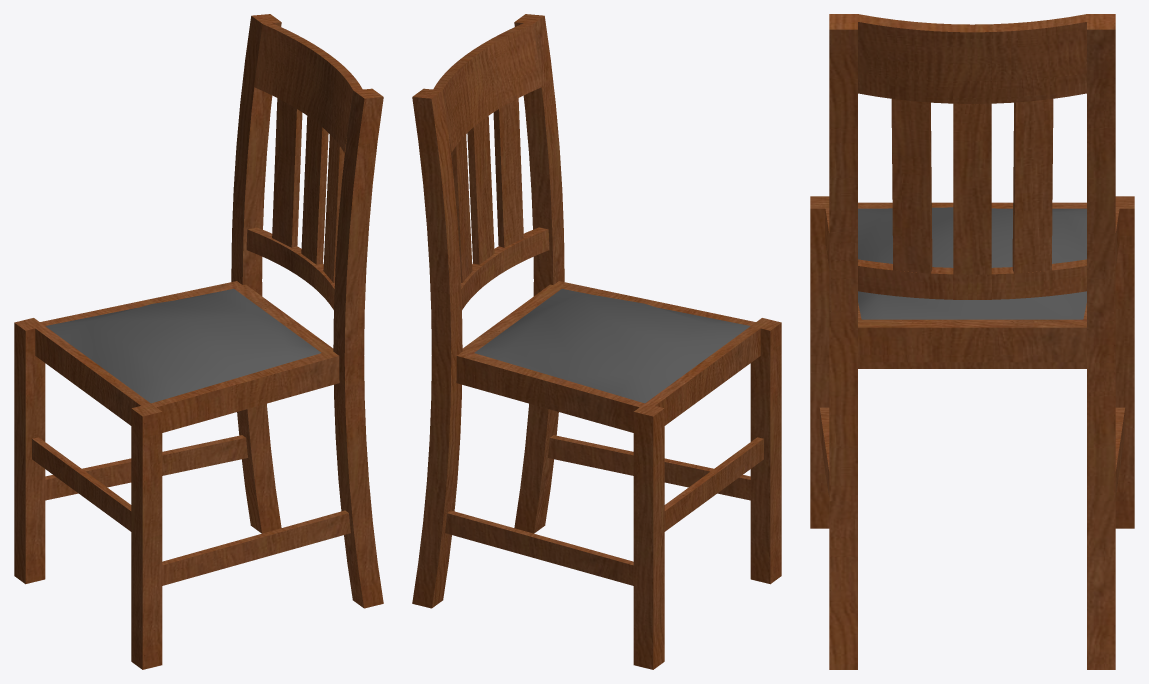
The model's file is Stoel.dae.
The picture shows the model from 3 angles, left to right: view 1: azimuth 30°, elevation 25°; view 2: azimuth 150°, elevation 25°; view 3: azimuth 270°, elevation 25°; orthographic projection. The views are drawn at different scales.
Parts seen in each view (by area): view 1: mesh0%root%0%, mesh0%root%1%; view 2: mesh0%root%0%, mesh0%root%1%; view 3: mesh0%root%0%, mesh0%root%1%.
Part boxes in pixels (x1,y1,x2,y2): mesh0%root%0%: (14,14,383,669); mesh0%root%1%: (45,289,321,403); mesh0%root%0%: (412,14,781,669); mesh0%root%1%: (474,289,750,403); mesh0%root%0%: (810,14,1134,669); mesh0%root%1%: (858,207,1086,319).
Bounding box in the file's own units: 0.4905 × 0.9482 × 0.4331.
